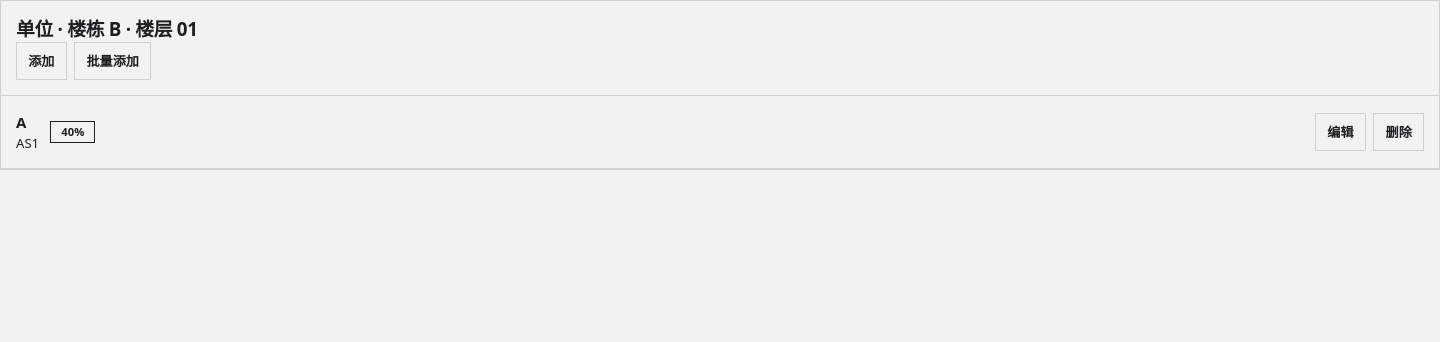
Test: renders Unit editing and deletion in Chinese
Click the button "编辑" at (1340, 132), box top-left (1315, 113), bottom-right (1366, 150)
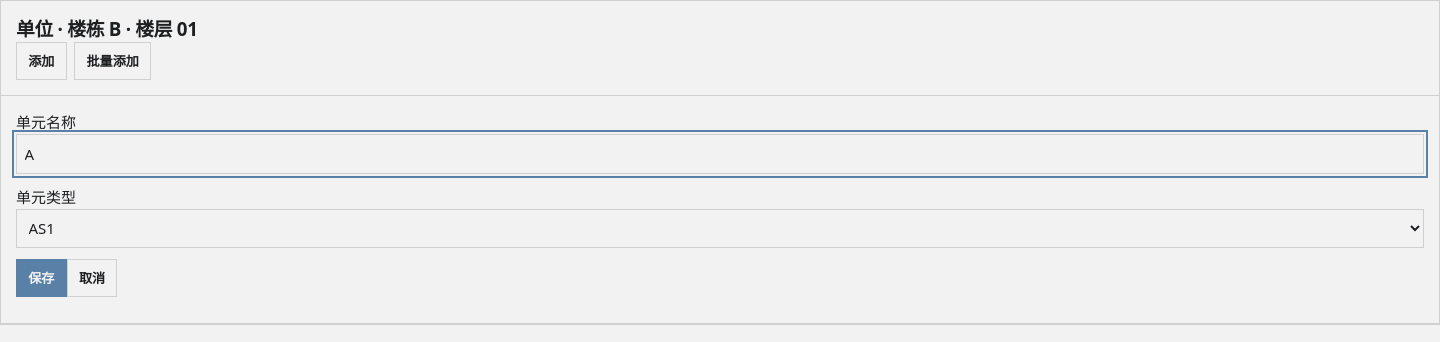
Result: the field labelled "单元名称" is shown at top-left (16, 134), bottom-right (1424, 174)
Result: the dropdown labelled "单元类型" is shown at top-left (16, 209), bottom-right (1424, 248)
